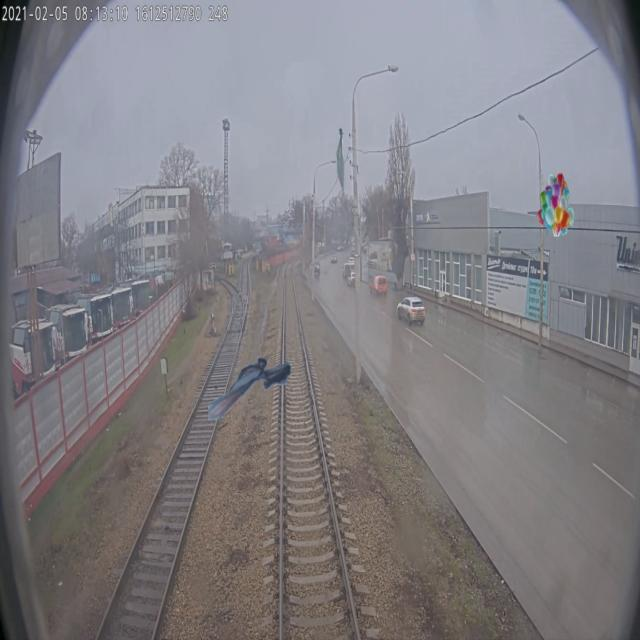balloon: (537, 172, 574, 236)
floating object: (208, 356, 290, 420), (336, 128, 350, 192)
